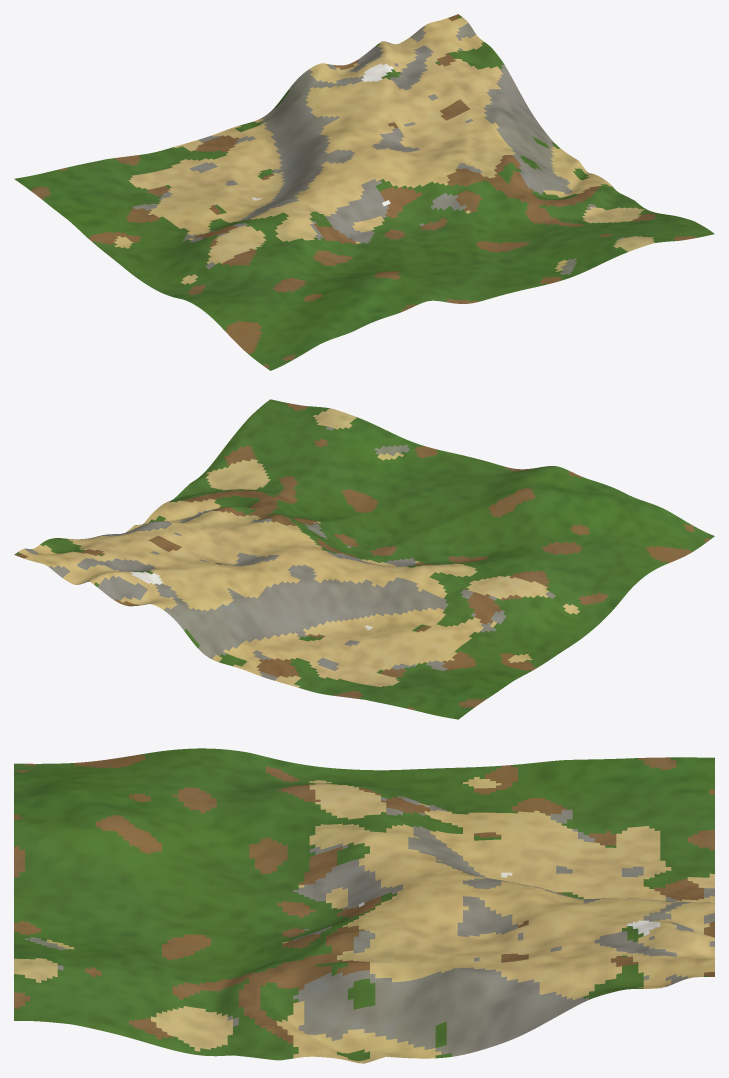
File: chunk_5_7.glb
The picture shows the model from 3 angles, top to bottom: view 1: azimuth 30°, elevation 25°; view 2: azimuth 150°, elevation 25°; view 3: azimuth 270°, elevation 25°; orthographic projection. The views are drawn at different scales.
Visible parts, largest first — view 1: Surface_Grass, Surface_Sand, Surface_Gravel, Surface_Dirt; view 2: Surface_Grass, Surface_Sand, Surface_Gravel, Surface_Dirt; view 3: Surface_Grass, Surface_Sand, Surface_Gravel, Surface_Dirt.
Boxes of the visible parts, x1=… form: Surface_Grass: x1=14, y1=15, x2=714, y2=370; Surface_Sand: x1=114, y1=17, x2=655, y2=284; Surface_Gravel: x1=132, y1=23, x2=625, y2=274; Surface_Dirt: x1=30, y1=14, x2=697, y2=367; Surface_Grass: x1=16, y1=399, x2=714, y2=719; Surface_Sand: x1=18, y1=408, x2=579, y2=687; Surface_Gravel: x1=24, y1=426, x2=555, y2=680; Surface_Dirt: x1=14, y1=403, x2=710, y2=709; Surface_Grass: x1=14, y1=748, x2=714, y2=1061; Surface_Sand: x1=14, y1=776, x2=714, y2=1063; Surface_Gravel: x1=25, y1=783, x2=714, y2=1056; Surface_Dirt: x1=14, y1=754, x2=714, y2=1043.
Bounding box in the file's own units: 256 × 36.09 × 256.
